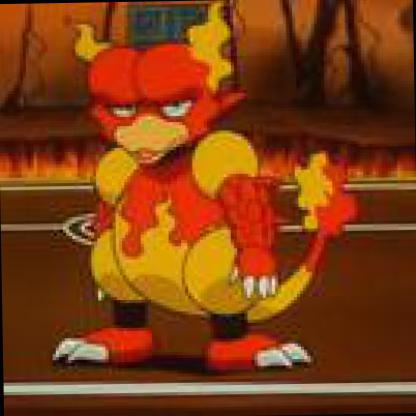Magmar: (18, 0, 415, 415)
